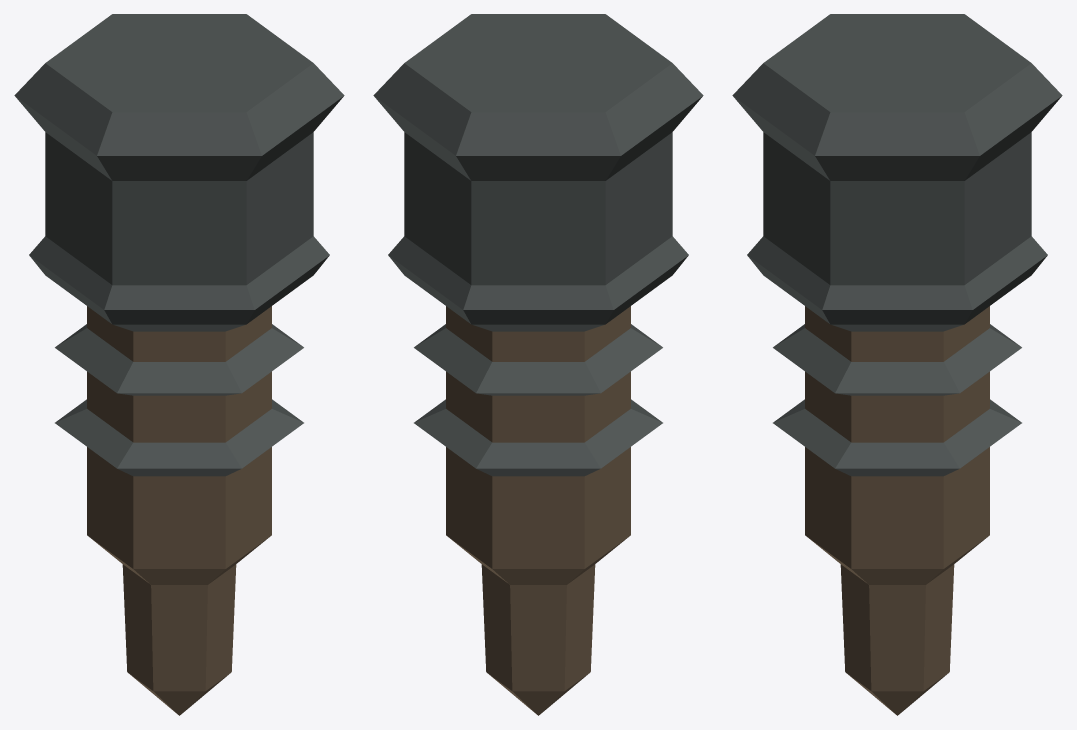
The model's file is Torch.fbx.
3 renders of one model, left to right at view 1: azimuth 30°, elevation 25°; view 2: azimuth 150°, elevation 25°; view 3: azimuth 270°, elevation 25°, orthographic.
Parts seen in each view (by area): view 1: Torch; view 2: Torch; view 3: Torch.
Boxes of the visible parts, x1,y1,x2,y2 form: Torch: [14, 14, 344, 715]; Torch: [373, 14, 703, 715]; Torch: [732, 14, 1062, 715].
Bounding box in the file's own units: 101 × 255 × 117.
